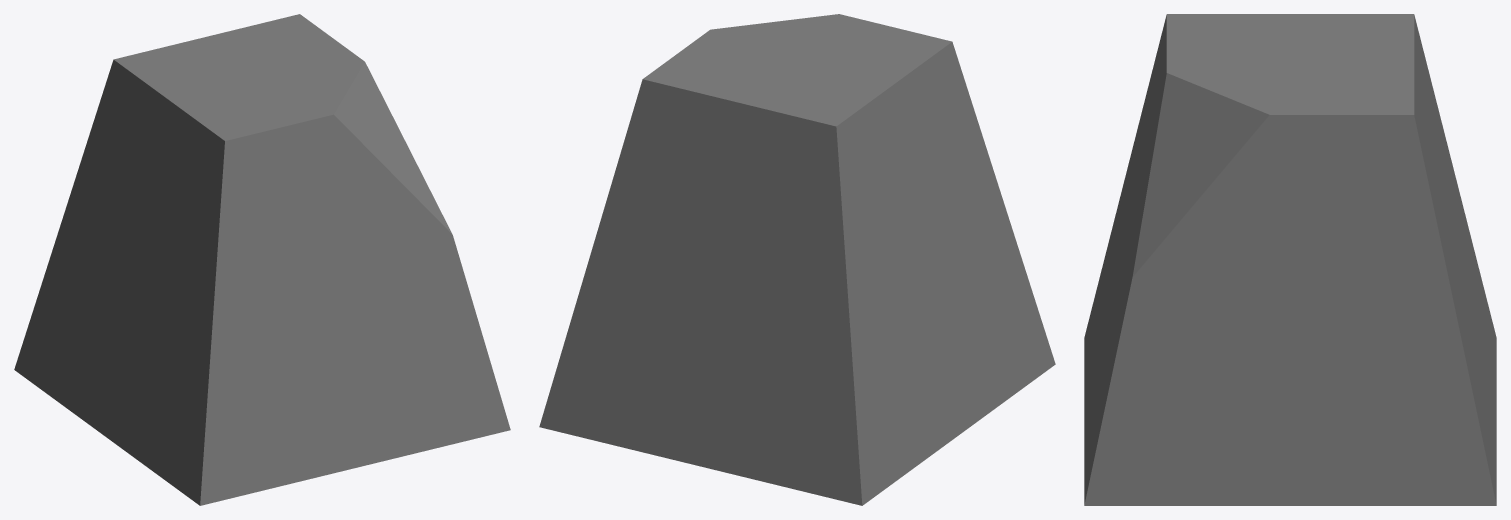
The model's file is Stone 4.fbx.
The picture shows the model from 3 angles, left to right: view 1: azimuth 30°, elevation 25°; view 2: azimuth 150°, elevation 25°; view 3: azimuth 270°, elevation 25°; orthographic projection. The views are drawn at different scales.
Visible parts, largest first — view 1: Stone_4; view 2: Stone_4; view 3: Stone_4.
Boxes of the visible parts, x1,y1,x2,y2 form: Stone_4: (14,14,510,505); Stone_4: (539,14,1055,505); Stone_4: (1084,14,1496,505).
Size of the model in its own units: 1.04 by 1.04 by 1.08.
